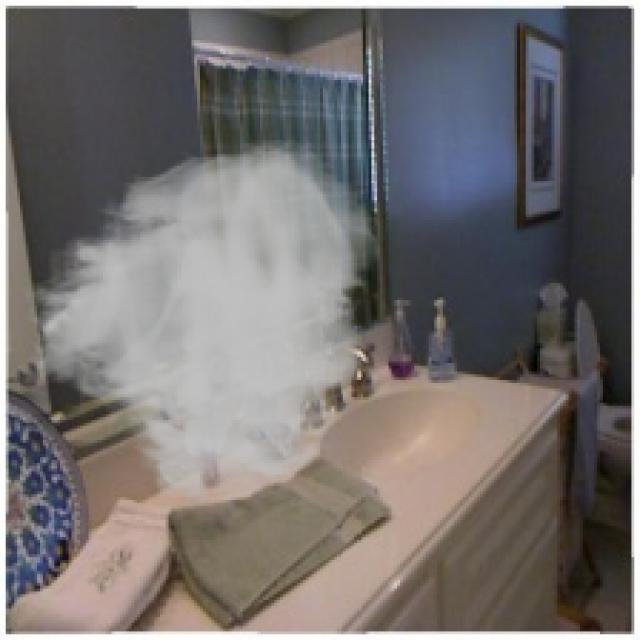Smoke: (14, 137, 383, 506)
